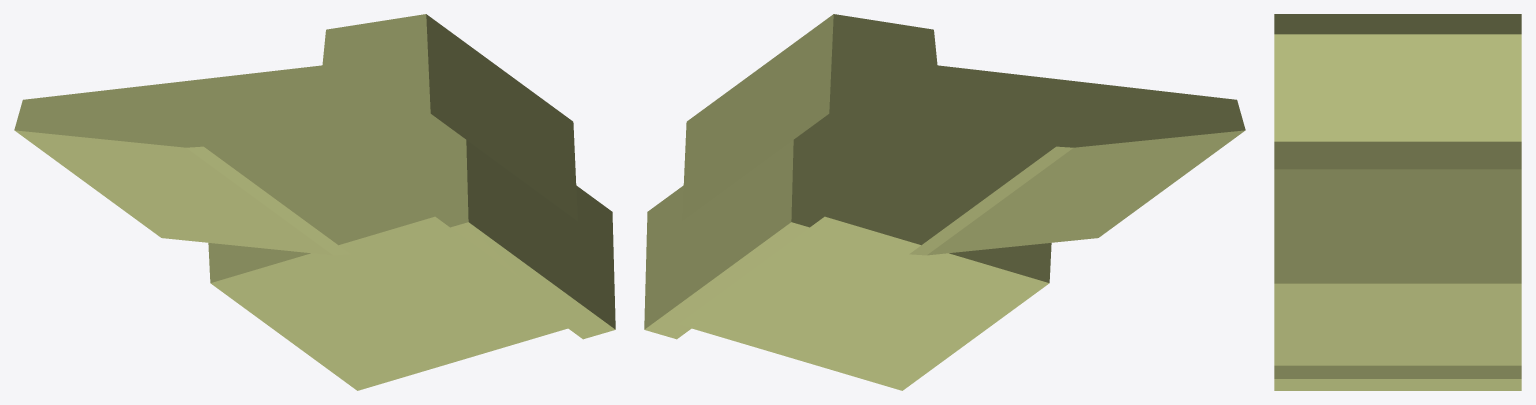
3 views of the same model, side by side, from view 1: azimuth 30°, elevation 25°; view 2: azimuth 150°, elevation 25°; view 3: azimuth 270°, elevation 25° (orthographic). The views are drawn at different scales.
Parts seen in each view (by area): view 1: 0_1_1_3_3_1_3_0_0_2; view 2: 0_1_1_3_3_1_3_0_0_2; view 3: 0_1_1_3_3_1_3_0_0_2.
Part boxes in pixels (<box>): 0_1_1_3_3_1_3_0_0_2: <box>14,14,615,390</box>; 0_1_1_3_3_1_3_0_0_2: <box>644,14,1245,390</box>; 0_1_1_3_3_1_3_0_0_2: <box>1274,14,1521,390</box>.
Bounding box in the file's own units: 16.04 × 7.85 × 9.
